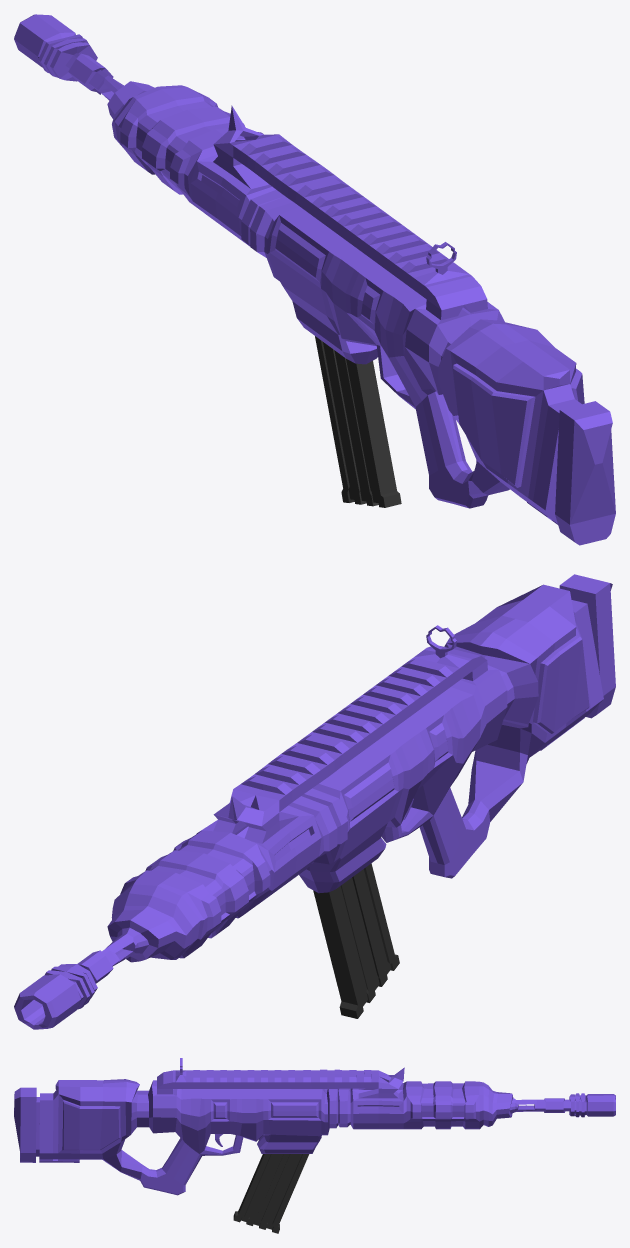
The model's file is rifle1.fbx.
The picture shows the model from 3 angles, top to bottom: view 1: azimuth 30°, elevation 25°; view 2: azimuth 150°, elevation 25°; view 3: azimuth 270°, elevation 25°; orthographic projection. The views are drawn at different scales.
Parts seen in each view (by area): view 1: Body, Clip; view 2: Body, Clip; view 3: Body, Clip.
Boxes of the visible parts, x1,y1,x2,y2 form: Body: [14, 14, 615, 545]; Clip: [315, 336, 401, 507]; Body: [14, 574, 615, 1029]; Clip: [313, 863, 399, 1018]; Body: [14, 1058, 615, 1195]; Clip: [233, 1154, 309, 1233].
Bounding box in the file's own units: 180 × 556 × 1763.
